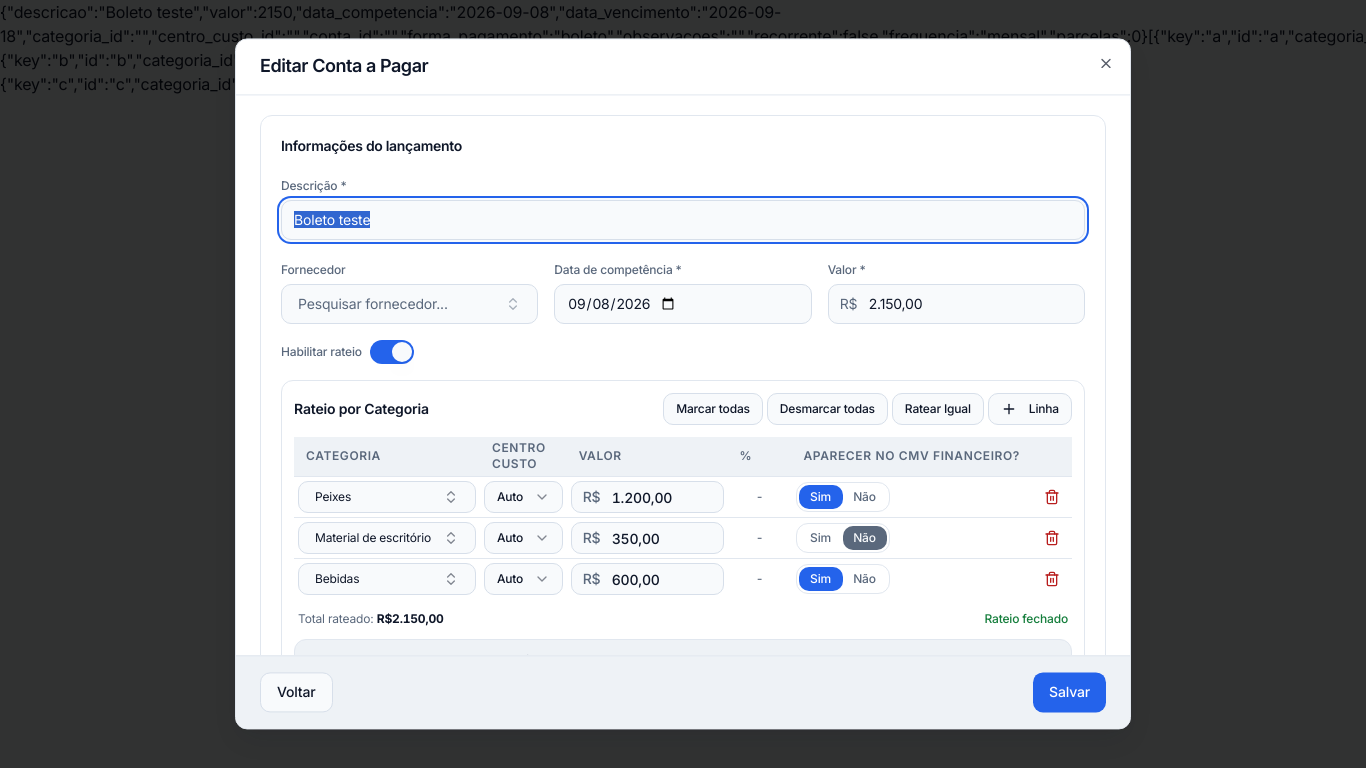
Test: Contas a Pagar — "Aparecer no CMV financeiro?" › desfazer um rateio com respostas diferentes não aplica a da primeira linha ao boleto inteiro
Click the switch. click: {"x": 392, "y": 352}
box: [370,340,414,364]
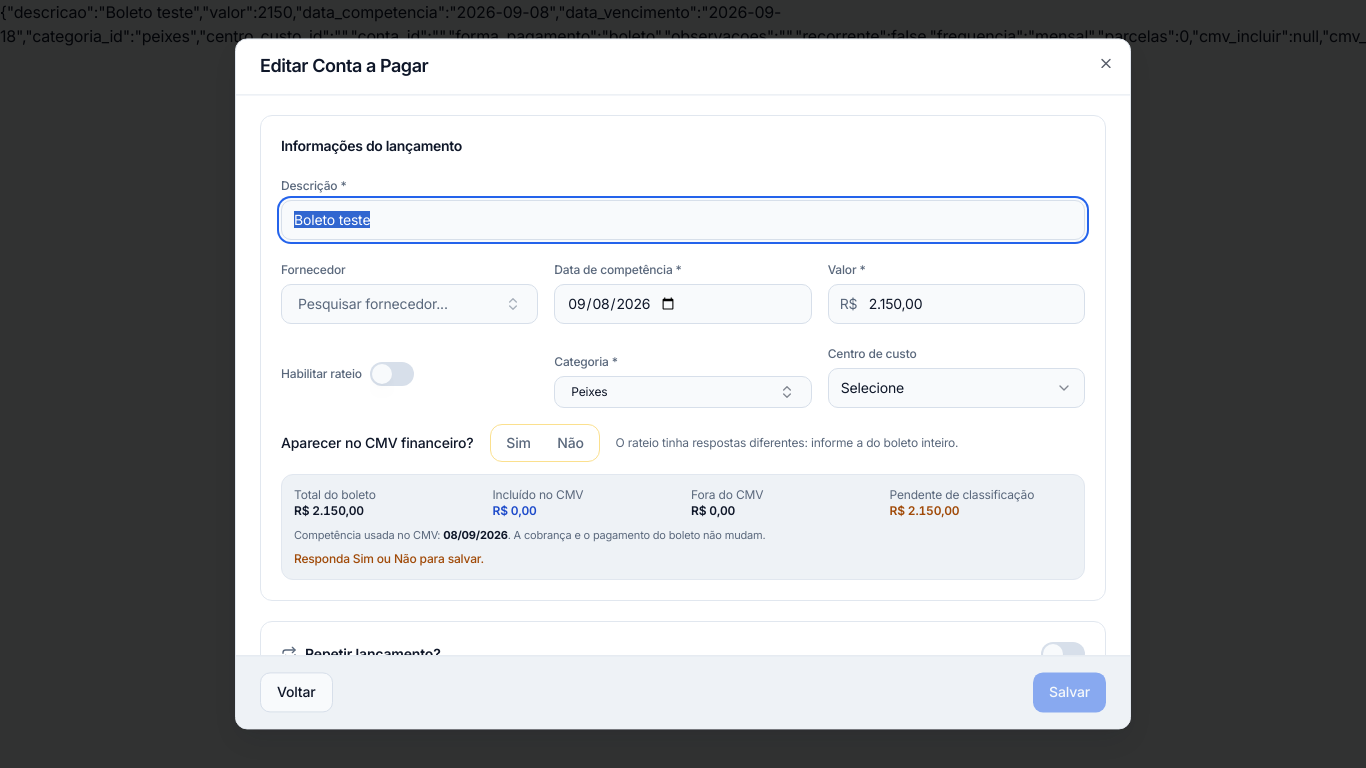
Expected: the text "O rateio tinha respostas diferentes: informe a do boleto inteiro." is shown, [616,435,958,451]
Expected: the text "R$ 2.150,00" below "Total" is shown, [294,503,364,518]
Expected: the button "Salvar" is disabled, [1033,673,1106,713]
Click the radio button labelled "Não". click: {"x": 570, "y": 443}
box: [544,427,596,459]
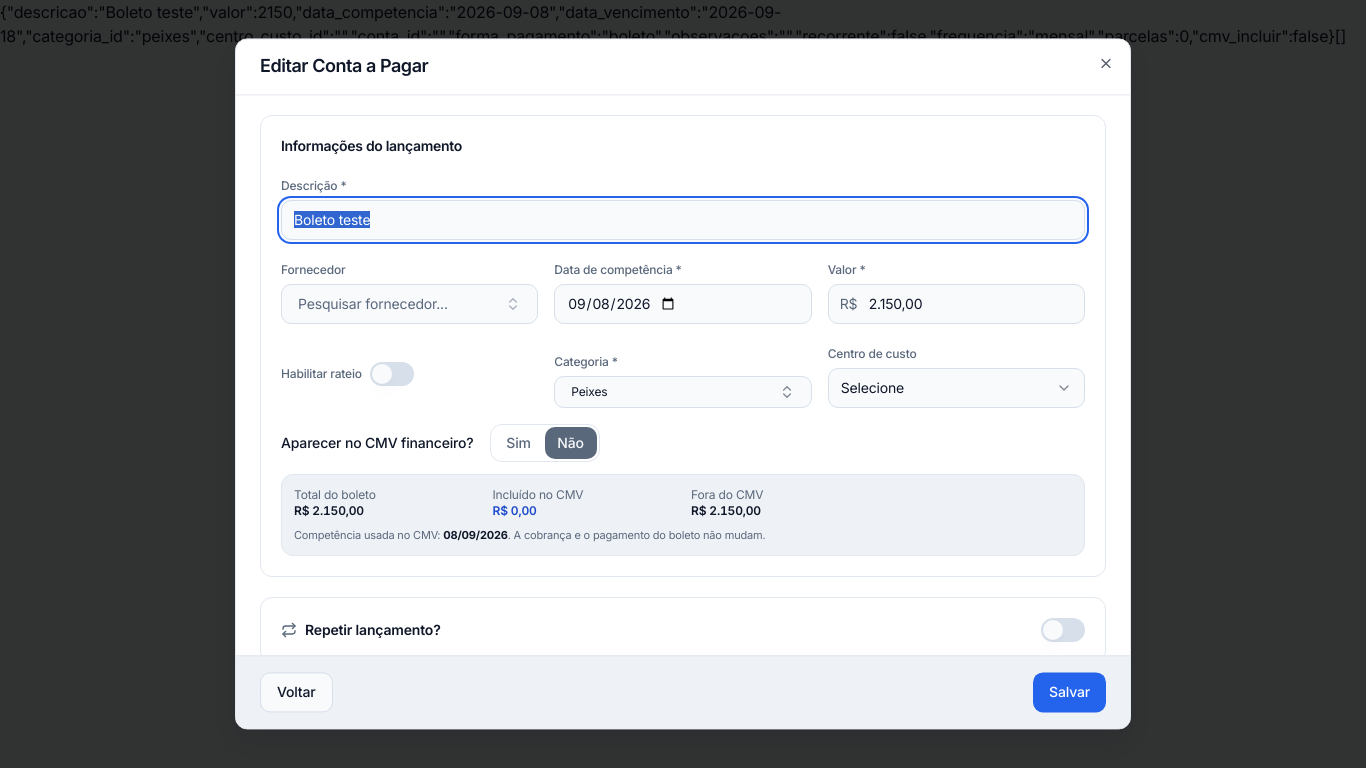
Expected: the button "Salvar" is enabled, [1033,673,1106,713]
